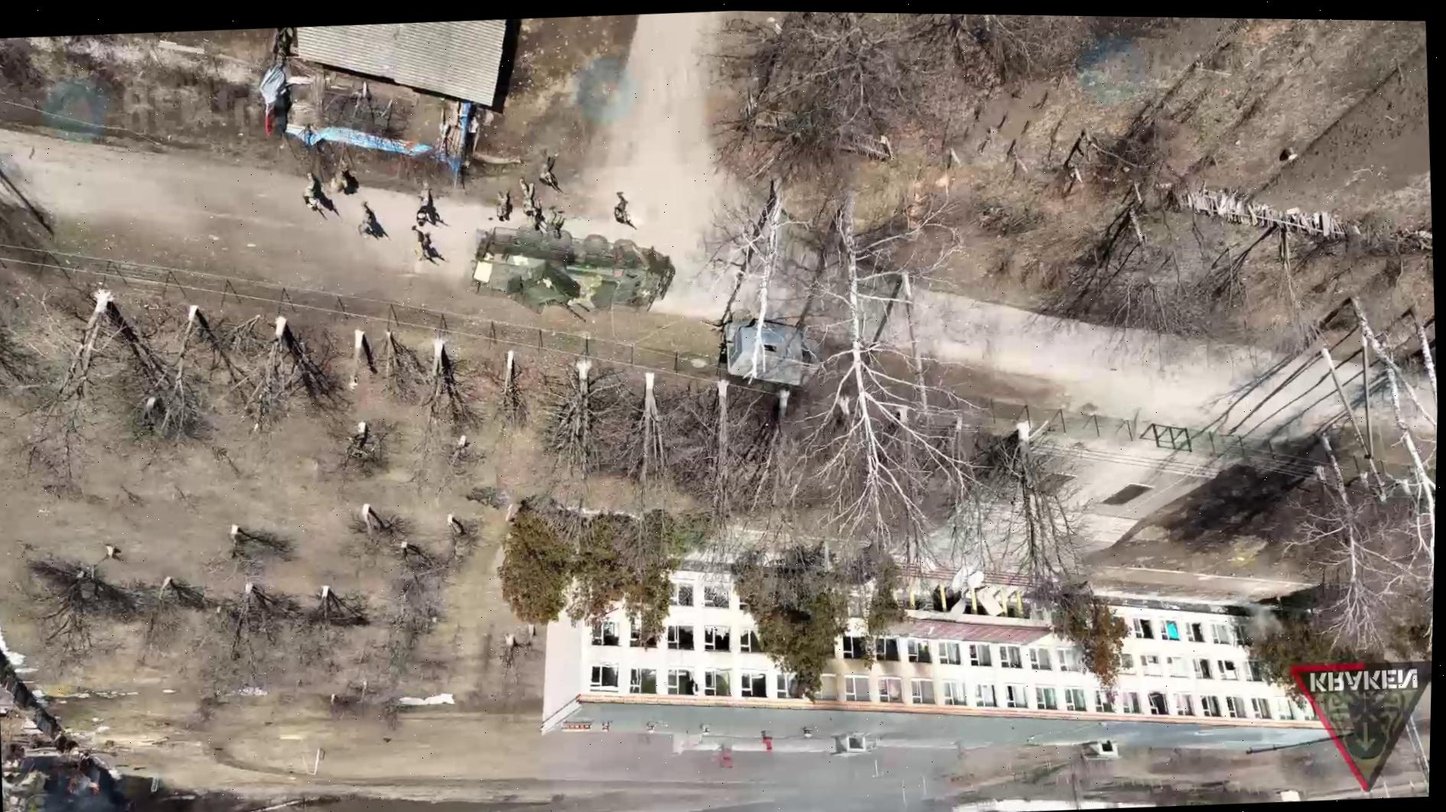person: (300, 170, 329, 221), (410, 222, 440, 267), (413, 186, 442, 229), (517, 175, 542, 222), (536, 151, 562, 195), (612, 190, 638, 230), (356, 200, 381, 241), (526, 196, 546, 233), (546, 204, 566, 239), (331, 163, 352, 195), (495, 187, 511, 222)
tank: (467, 217, 678, 329)
